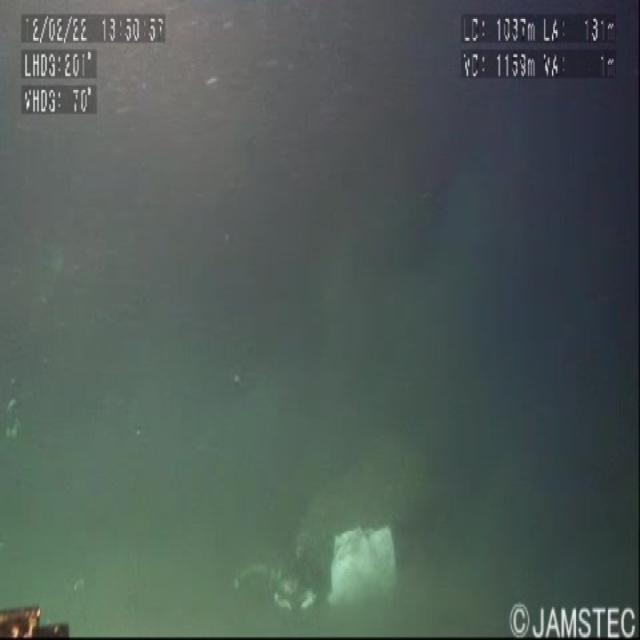Plastic: (315, 507, 401, 627)
